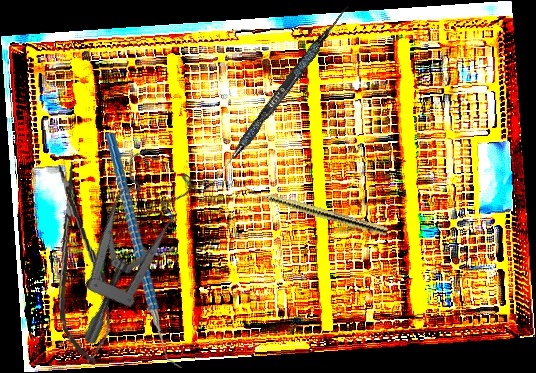Chopper: (85, 132, 205, 369)
Handpiece: (242, 184, 389, 237)
Micro Scissor: (46, 158, 114, 367)
Spatula Surgical: (203, 0, 351, 197)
Speculum: (15, 136, 229, 348)
